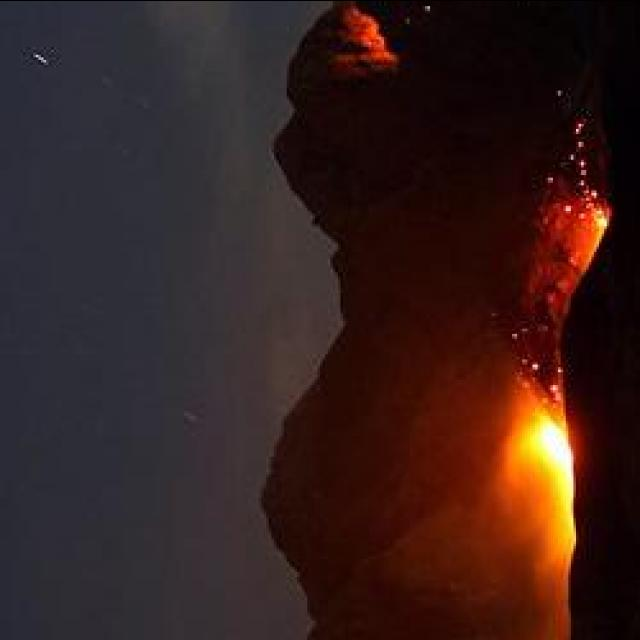fire: (540, 422, 572, 468), (590, 205, 610, 232)
smoke: (390, 379, 530, 522), (480, 470, 570, 618)
